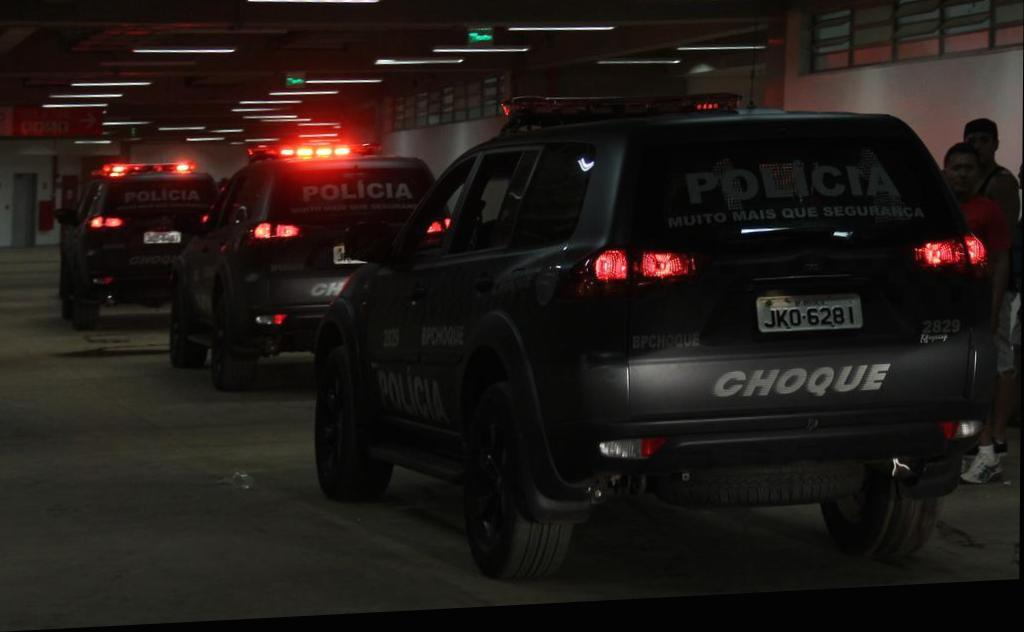License_Plate: (754, 289, 863, 336)
